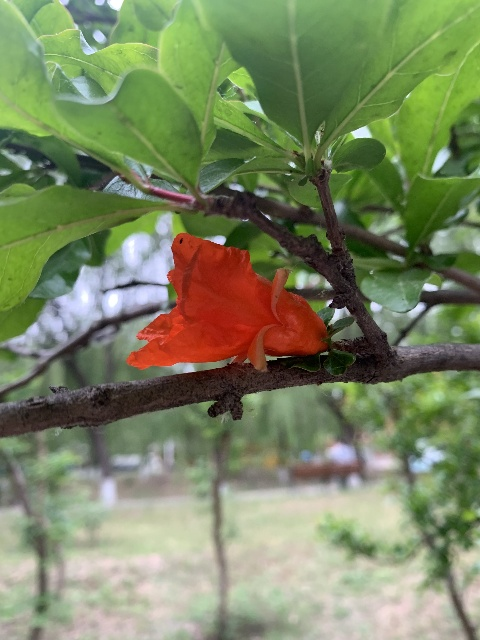flower: (126, 233, 327, 374)
